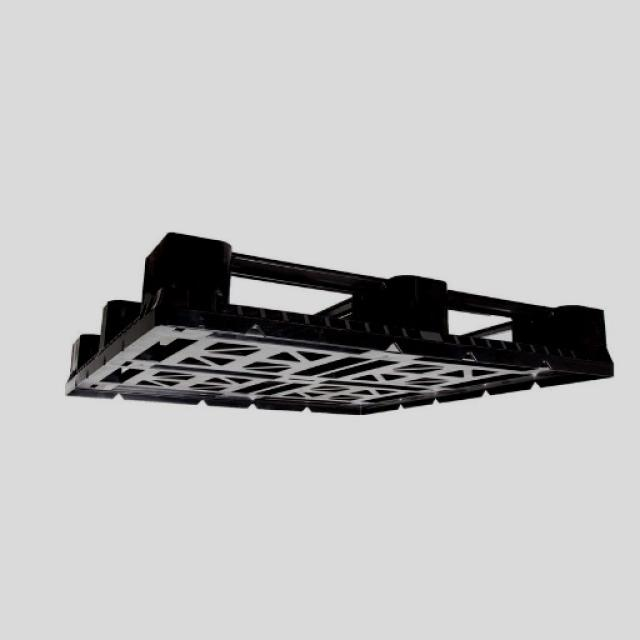non-igps: (57, 224, 621, 424)
